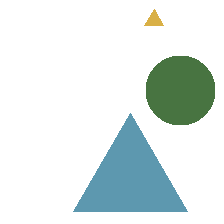circle: (146, 56, 214, 124)
triangle: (73, 113, 187, 211), (144, 9, 163, 25)
